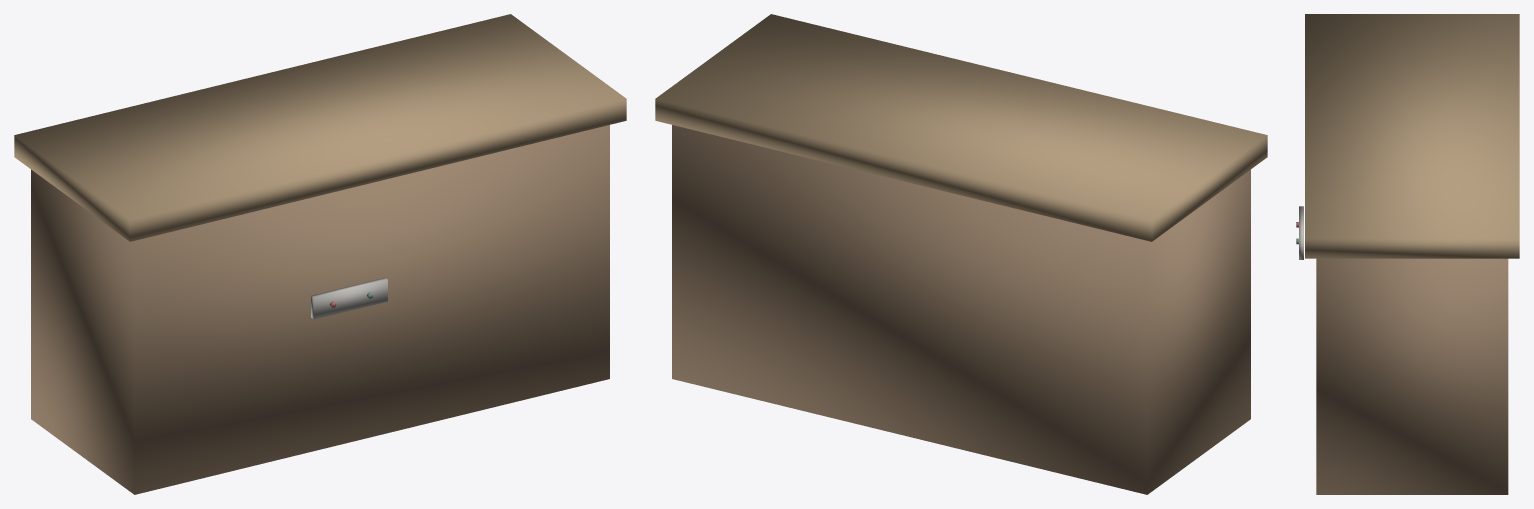
Rendered from host_stand__reinforced.glb.
3 renders of one model, left to right at view 1: azimuth 30°, elevation 25°; view 2: azimuth 150°, elevation 25°; view 3: azimuth 270°, elevation 25°, orthographic. The views are drawn at different scales.
Parts seen in each view (by area): view 1: world; view 2: world; view 3: world.
Boxes of the visible parts, left/top/right/bottom form: world: left=14, top=14, right=626, bottom=494; world: left=655, top=14, right=1267, bottom=494; world: left=1296, top=14, right=1519, bottom=494.
Bounding box in the file's own units: 1.94 × 1.05 × 0.8147.
